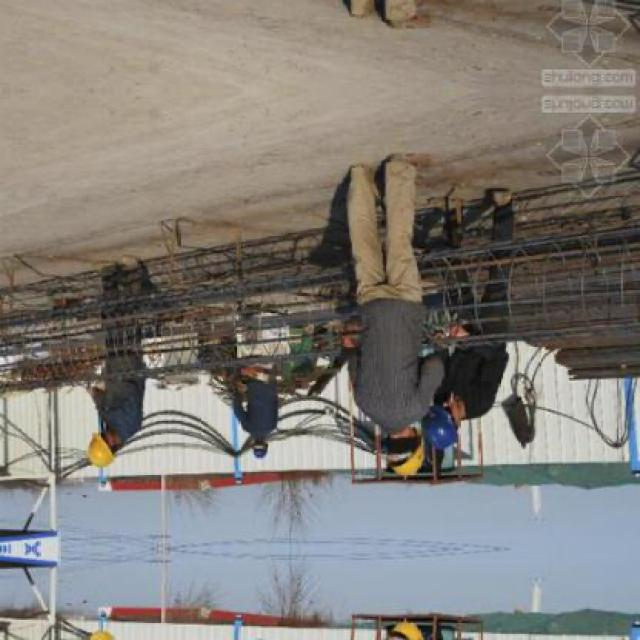con casco: (332, 400, 422, 476), (60, 428, 126, 491), (222, 425, 289, 468), (418, 396, 457, 448)
